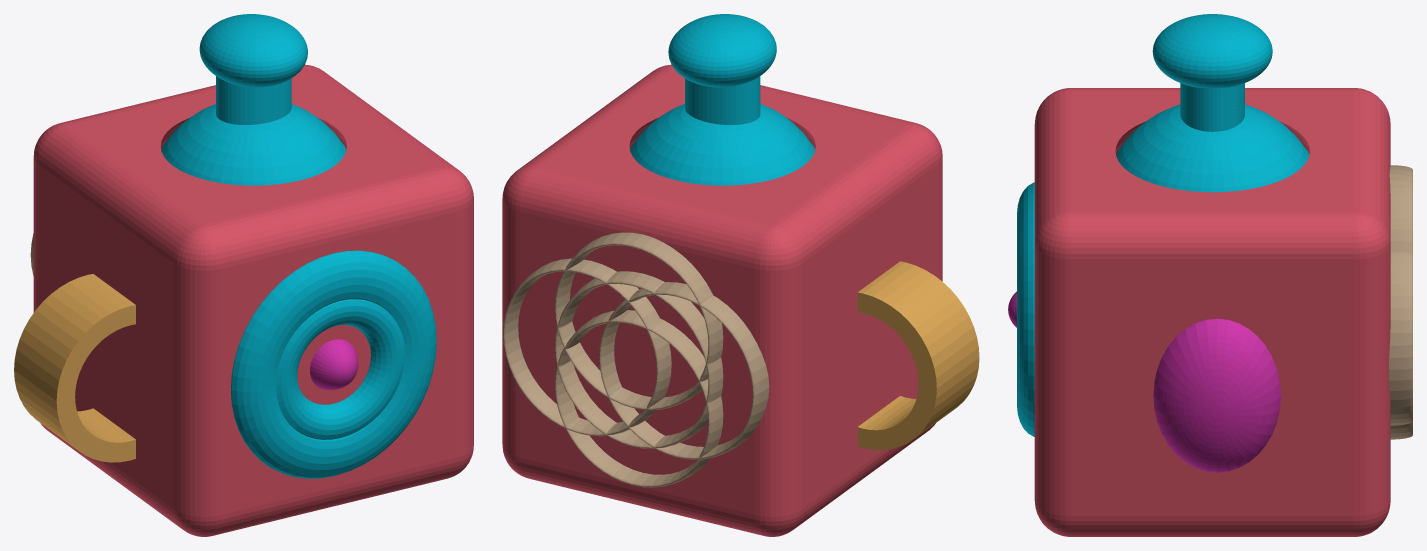
The model's file is X - Ronanb-combo skydiver.glb.
3 views of the same model, side by side, from view 1: azimuth 30°, elevation 25°; view 2: azimuth 150°, elevation 25°; view 3: azimuth 270°, elevation 25° (orthographic). The views are drawn at different scales.
Visible parts, largest first — view 1: Mesh_Mesh_head_geo.001_lambert2SG.001; view 2: Mesh_Mesh_head_geo.001_lambert2SG.001; view 3: Mesh_Mesh_head_geo.001_lambert2SG.001.
Boxes of the visible parts, x1,y1,x2,y2 form: Mesh_Mesh_head_geo.001_lambert2SG.001: (14, 14, 473, 536); Mesh_Mesh_head_geo.001_lambert2SG.001: (502, 14, 979, 536); Mesh_Mesh_head_geo.001_lambert2SG.001: (1008, 14, 1412, 536).
Size of the model in its own units: 0.055 by 0.056 by 0.0455.
